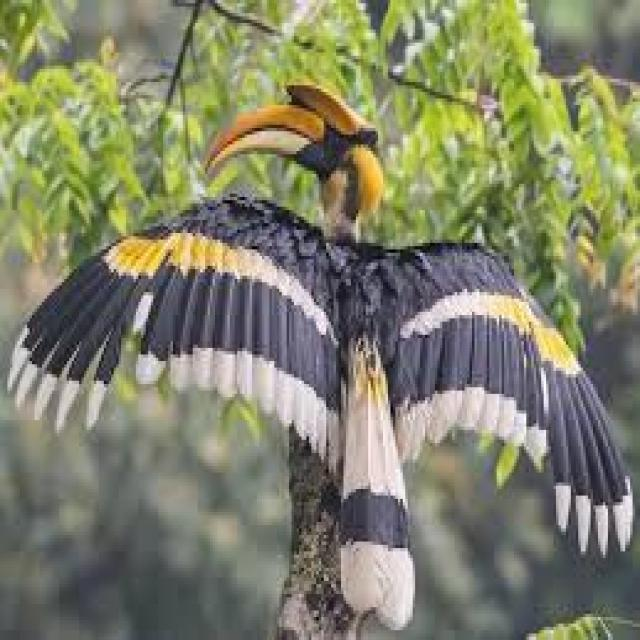Hornbill: (9, 65, 633, 608)
